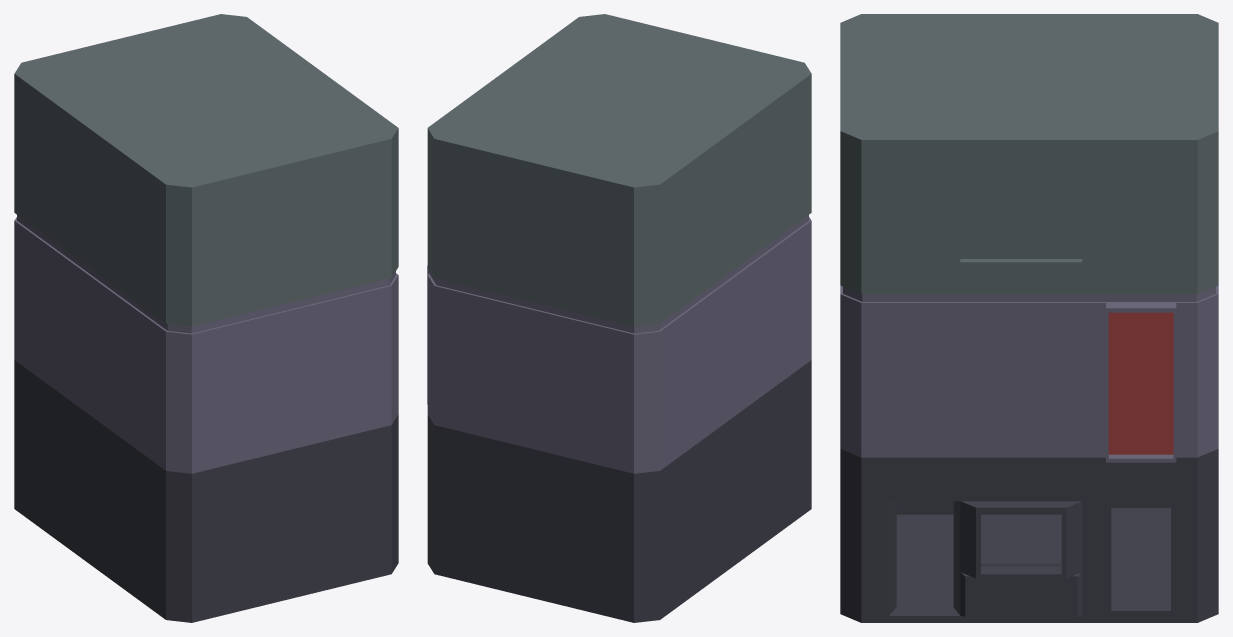
The model's file is 4_Scaffolding.fbx.
The picture shows the model from 3 angles, left to right: view 1: azimuth 30°, elevation 25°; view 2: azimuth 150°, elevation 25°; view 3: azimuth 270°, elevation 25°; orthographic projection. The views are drawn at different scales.
Parts seen in each view (by area): view 1: pasted___pCube1; view 2: pasted___pCube1; view 3: pasted___pCube1.
Part boxes in pixels (x1,y1,x2,y2): pasted___pCube1: (14,14,398,622); pasted___pCube1: (427,14,811,622); pasted___pCube1: (840,14,1218,622).
Bounding box in the file's own units: 5.87 × 10 × 7.1.
